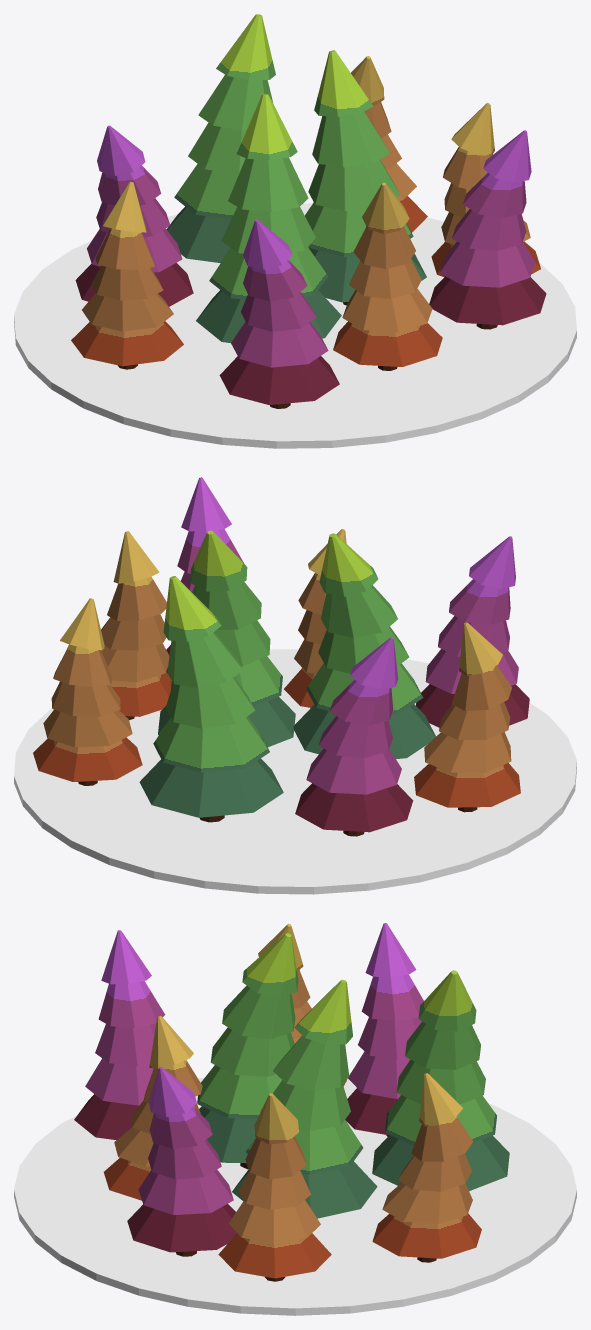
The model's file is colorfull_trees.glb.
The picture shows the model from 3 angles, top to bottom: view 1: azimuth 30°, elevation 25°; view 2: azimuth 150°, elevation 25°; view 3: azimuth 270°, elevation 25°; orthographic projection.
Parts seen in each view (by area): view 1: Circle, Roxa, Verde, Roxa.001, Verde.002, Amarela, Verde.001, Amarela.001, Roxa.002, Amarela.002, Amarela.003; view 2: Circle, Verde.001, Roxa.002, Verde, Amarela.001, Amarela.003, Verde.002, Amarela.002, Roxa.001, Amarela, Roxa; view 3: Circle, Verde.002, Verde.001, Verde, Roxa, Amarela.002, Amarela.003, Roxa.001, Roxa.002, Amarela, Amarela.001.
Boxes of the visible parts, <box> form: Circle: <box>14,203,576,448</box>; Roxa: <box>429,130,546,329</box>; Verde: <box>196,94,341,342</box>; Roxa.001: <box>219,219,339,408</box>; Verde.002: <box>305,50,426,305</box>; Amarela: <box>333,182,442,370</box>; Verde.001: <box>166,14,275,262</box>; Amarela.001: <box>71,181,183,369</box>; Roxa.002: <box>75,125,193,306</box>; Amarela.002: <box>431,103,540,277</box>; Amarela.003: <box>351,56,427,232</box>; Circle: <box>14,649,576,894</box>; Verde.001: <box>139,576,283,822</box>; Roxa.002: <box>295,637,413,836</box>; Verde: <box>293,533,435,758</box>; Amarela.001: <box>414,622,520,812</box>; Amarela.003: <box>33,598,142,785</box>; Verde.002: <box>158,530,295,747</box>; Amarela.002: <box>101,531,171,720</box>; Roxa.001: <box>416,536,529,727</box>; Amarela: <box>284,529,346,707</box>; Roxa: <box>166,477,243,672</box>; Circle: <box>14,1072,576,1315</box>; Verde.002: <box>232,979,377,1218</box>; Verde.001: <box>372,970,509,1191</box>; Verde: <box>197,933,298,1169</box>; Roxa: <box>127,1066,236,1256</box>; Amarela.002: <box>218,1093,331,1281</box>; Amarela.003: <box>372,1073,481,1262</box>; Roxa.001: <box>74,930,165,1140</box>; Roxa.002: <box>345,923,423,1136</box>; Amarela: <box>103,1015,202,1200</box>; Amarela.001: <box>258,923,346,1086</box>.
Size of the model in its own units: 13.8 by 6.66 by 13.8.
4 materials, 3 textured.
